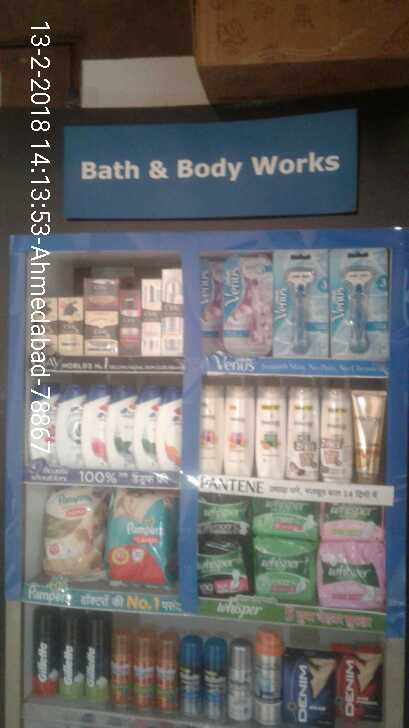gillete: (60, 612, 85, 701), (33, 609, 58, 696), (85, 611, 109, 701), (180, 636, 205, 718), (157, 633, 178, 714), (205, 637, 225, 718), (134, 630, 155, 707), (112, 631, 130, 702)
venus: (329, 247, 388, 358), (275, 252, 329, 358), (225, 257, 273, 354), (200, 259, 225, 354)
